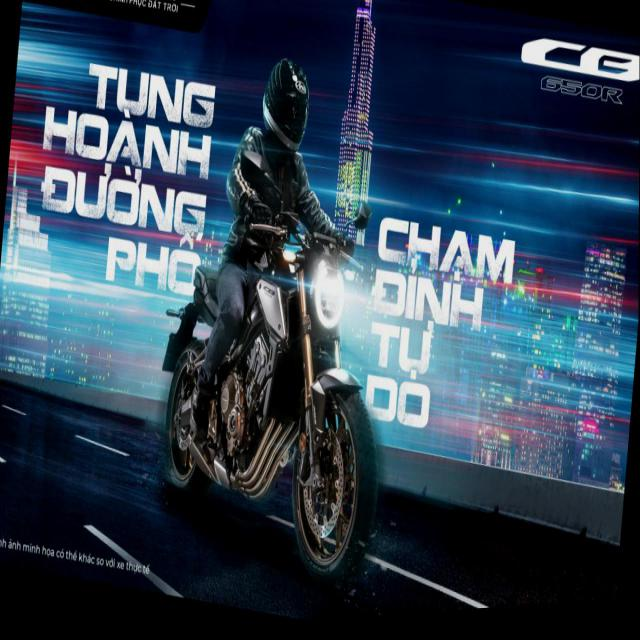CB650R: (156, 225, 396, 609)
